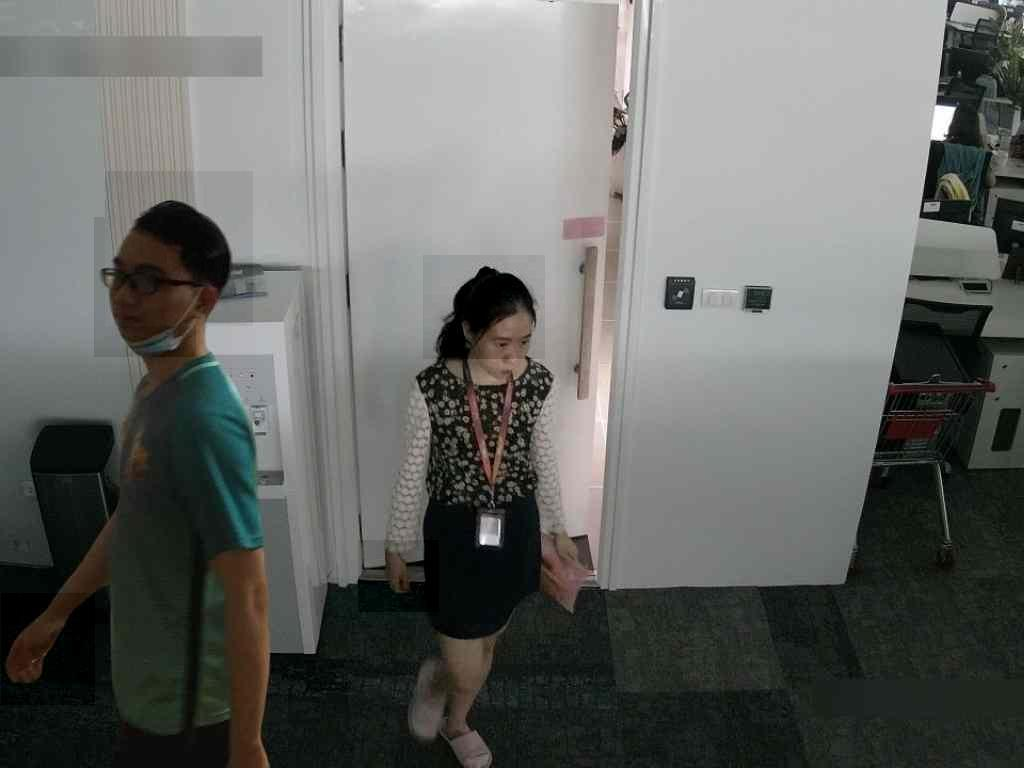no_apron: (1, 593, 95, 705), (358, 541, 439, 613)
no_gloves: (106, 171, 254, 326), (424, 256, 546, 360)
no_hairnet: (94, 217, 196, 357), (467, 298, 539, 381)
